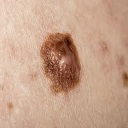Melanoma: (42, 31, 84, 89)
